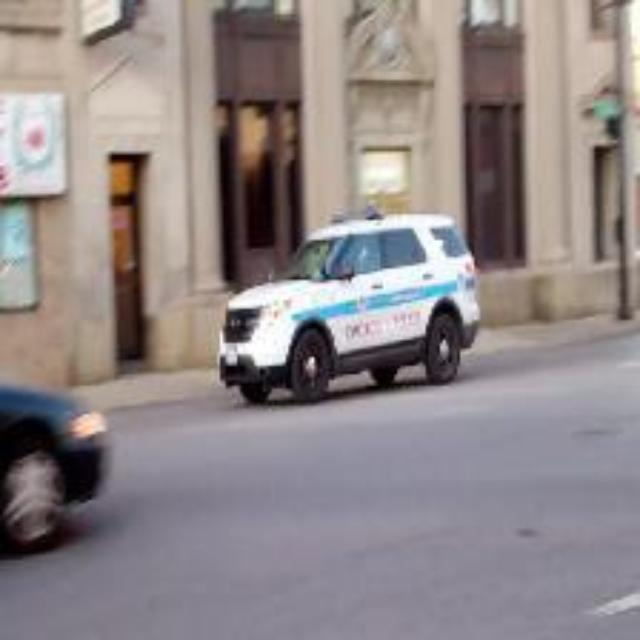emergency: (216, 208, 484, 392)
